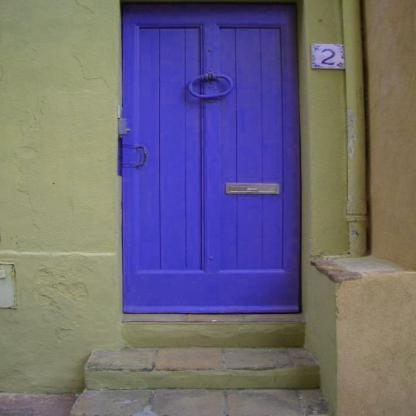door: (125, 12, 299, 311)
